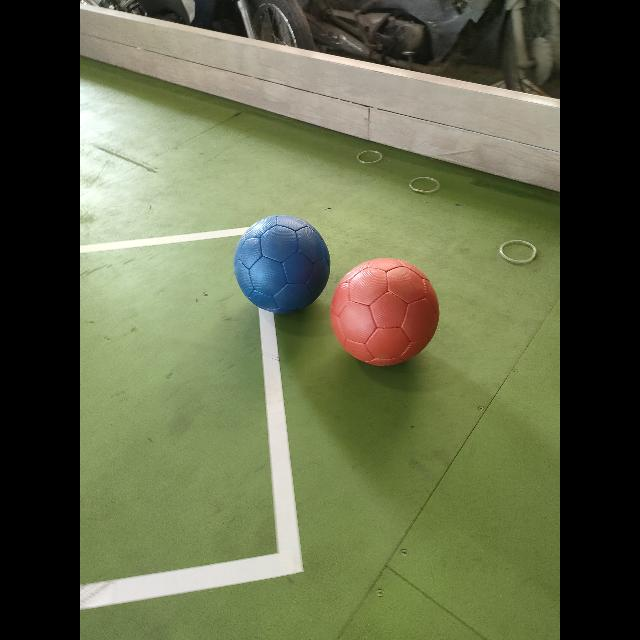B: (234, 215, 330, 313)
R: (331, 258, 439, 364)
